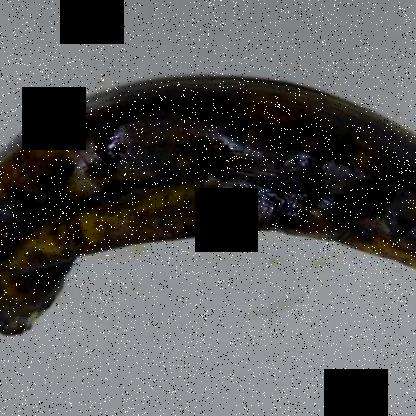rotten: (0, 53, 415, 368)
